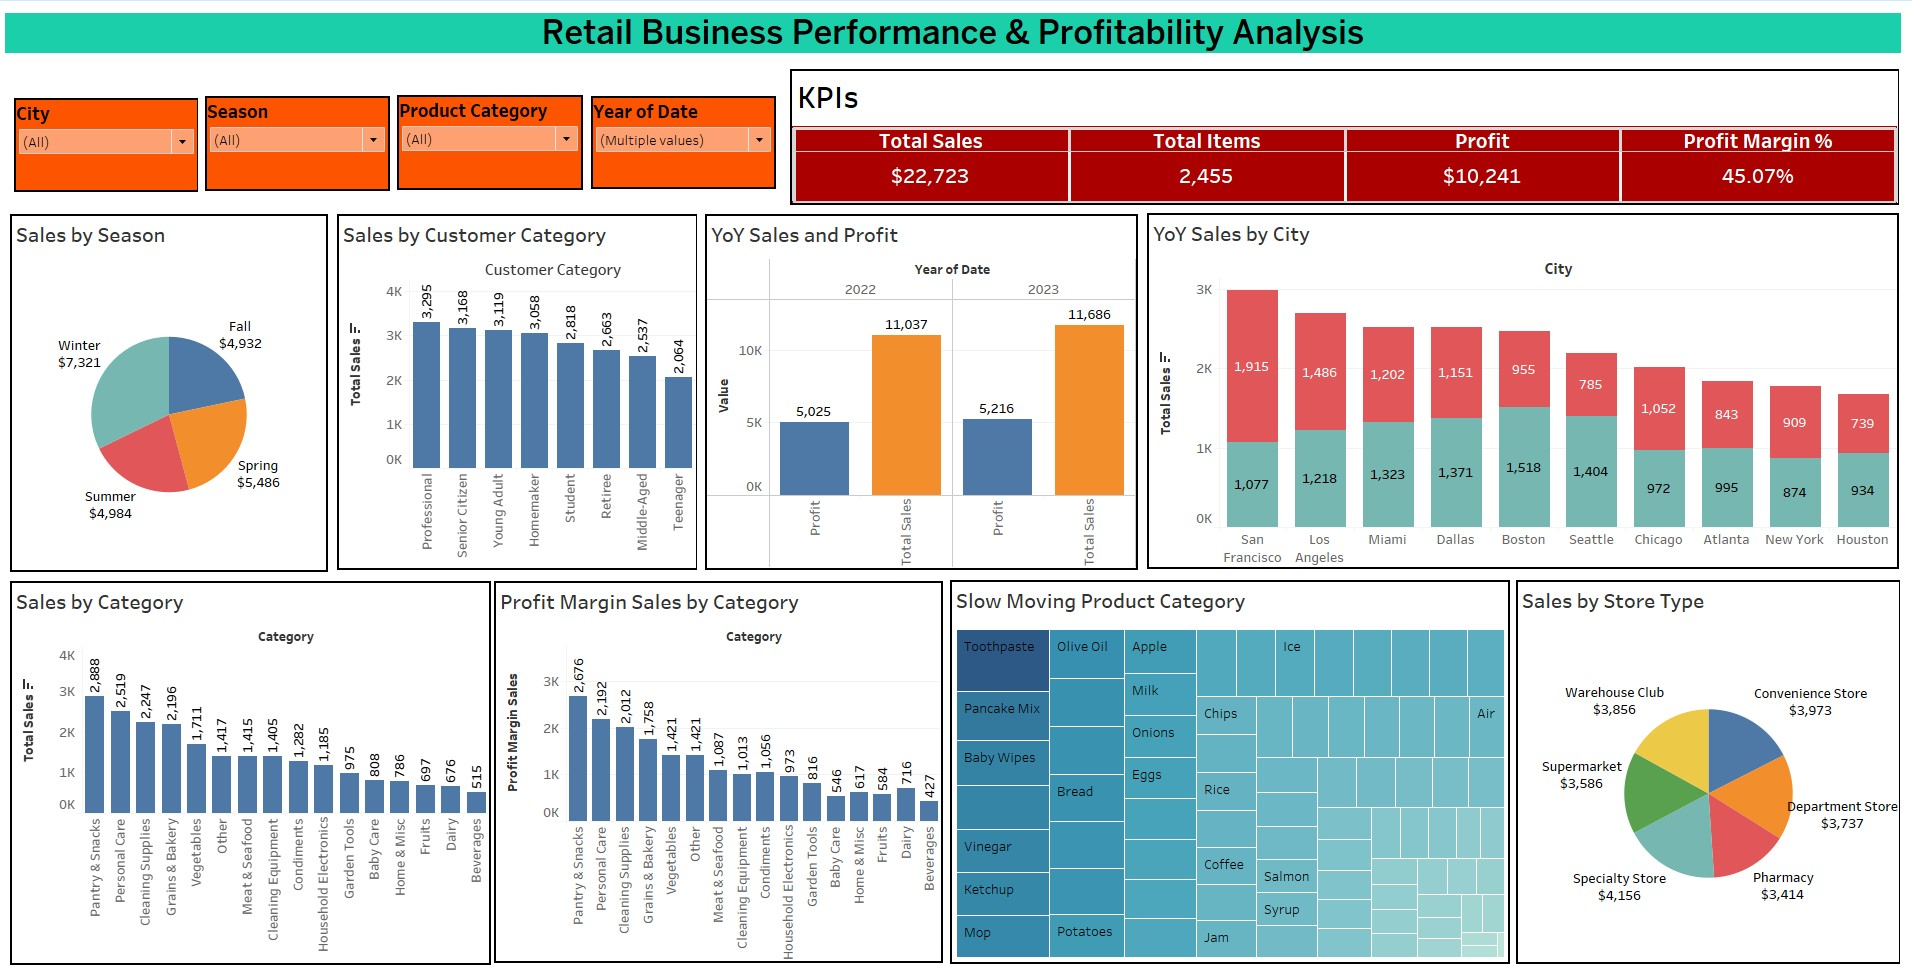

What the dashboard file says about the page in this screenshot:
{"tool":"tableau","page":{"name":"Dashboard 1","canvas":[1000,1000],"units":"permille","ordinal":0},"visuals":[{"type":"title","box":[4.8,10,990.4,59.9]},{"type":"filter","title":"KPIs","param":"[federated.147rlhs1k9m5h614jcqbi0b3pmi0].[none:City:nk]","box":[34.4,78.7,96.4,66.2]},{"type":"filter","title":"KPIs","param":"[federated.147rlhs1k9m5h614jcqbi0b3pmi0].[none:Season:nk]","box":[137,79.9,96.6,66.2]},{"type":"filter","title":"KPIs","param":"[federated.147rlhs1k9m5h614jcqbi0b3pmi0].[none:Product_Category:nk]","box":[240.1,79.9,96.9,66.2]},{"type":"filter","title":"KPIs","param":"[federated.147rlhs1k9m5h614jcqbi0b3pmi0].[yr:Date:ok]","box":[344.2,79.9,96.3,64.9]},{"type":"worksheet","title":"KPIs","mark":"Automatic","box":[466.6,79.9,512.4,137.3]},{"type":"worksheet","title":"YoY S&P","mark":"Bar","cols":["Date"],"box":[9.6,183.5,324.3,387]},{"type":"worksheet","title":"YoY Sales by City","mark":"Bar","rows":["Total_Sales"],"cols":["City"],"box":[340.6,224.7,437.4,344.6]},{"type":"worksheet","title":"Sal by Sea","mark":"Pie","box":[784.8,237.2,197.7,330.8]},{"type":"worksheet","title":"Sal Cat","mark":"Automatic","rows":["Total_Sales"],"cols":["Category"],"box":[9.1,589.3,243.8,390.8]},{"type":"worksheet","title":"Sal CusCat","mark":"Automatic","rows":["Total_Sales"],"cols":["Customer_Category"],"box":[255.3,591.8,212.4,388.3]},{"type":"worksheet","title":"Sal Store Type","mark":"Pie","box":[767.1,591.8,219.1,383.3]},{"type":"worksheet","title":"Slo pro Cat","mark":"Automatic","box":[471.1,593,291.8,380.8]}]}

Visuals, with their boxes on the dashboard's canvas, which has no fixed pixel size, in thousandths of its width and height (x1, y1, x2, y2). These are canvas units, not pixel positions in the 1912x977 screenshot, which may show the page scaled, cropped or inside an application window:
title: box=[5, 10, 995, 70]
"KPIs" filter: box=[34, 79, 131, 145]
"KPIs" filter: box=[137, 80, 234, 146]
"KPIs" filter: box=[240, 80, 337, 146]
"KPIs" filter: box=[344, 80, 440, 145]
"KPIs" worksheet: box=[467, 80, 979, 217]
"YoY S&P" worksheet (Bar marks): box=[10, 184, 334, 570]
"YoY Sales by City" worksheet (Bar marks): box=[341, 225, 778, 569]
"Sal by Sea" worksheet (Pie marks): box=[785, 237, 982, 568]
"Sal Cat" worksheet: box=[9, 589, 253, 980]
"Sal CusCat" worksheet: box=[255, 592, 468, 980]
"Sal Store Type" worksheet (Pie marks): box=[767, 592, 986, 975]
"Slo pro Cat" worksheet: box=[471, 593, 763, 974]
